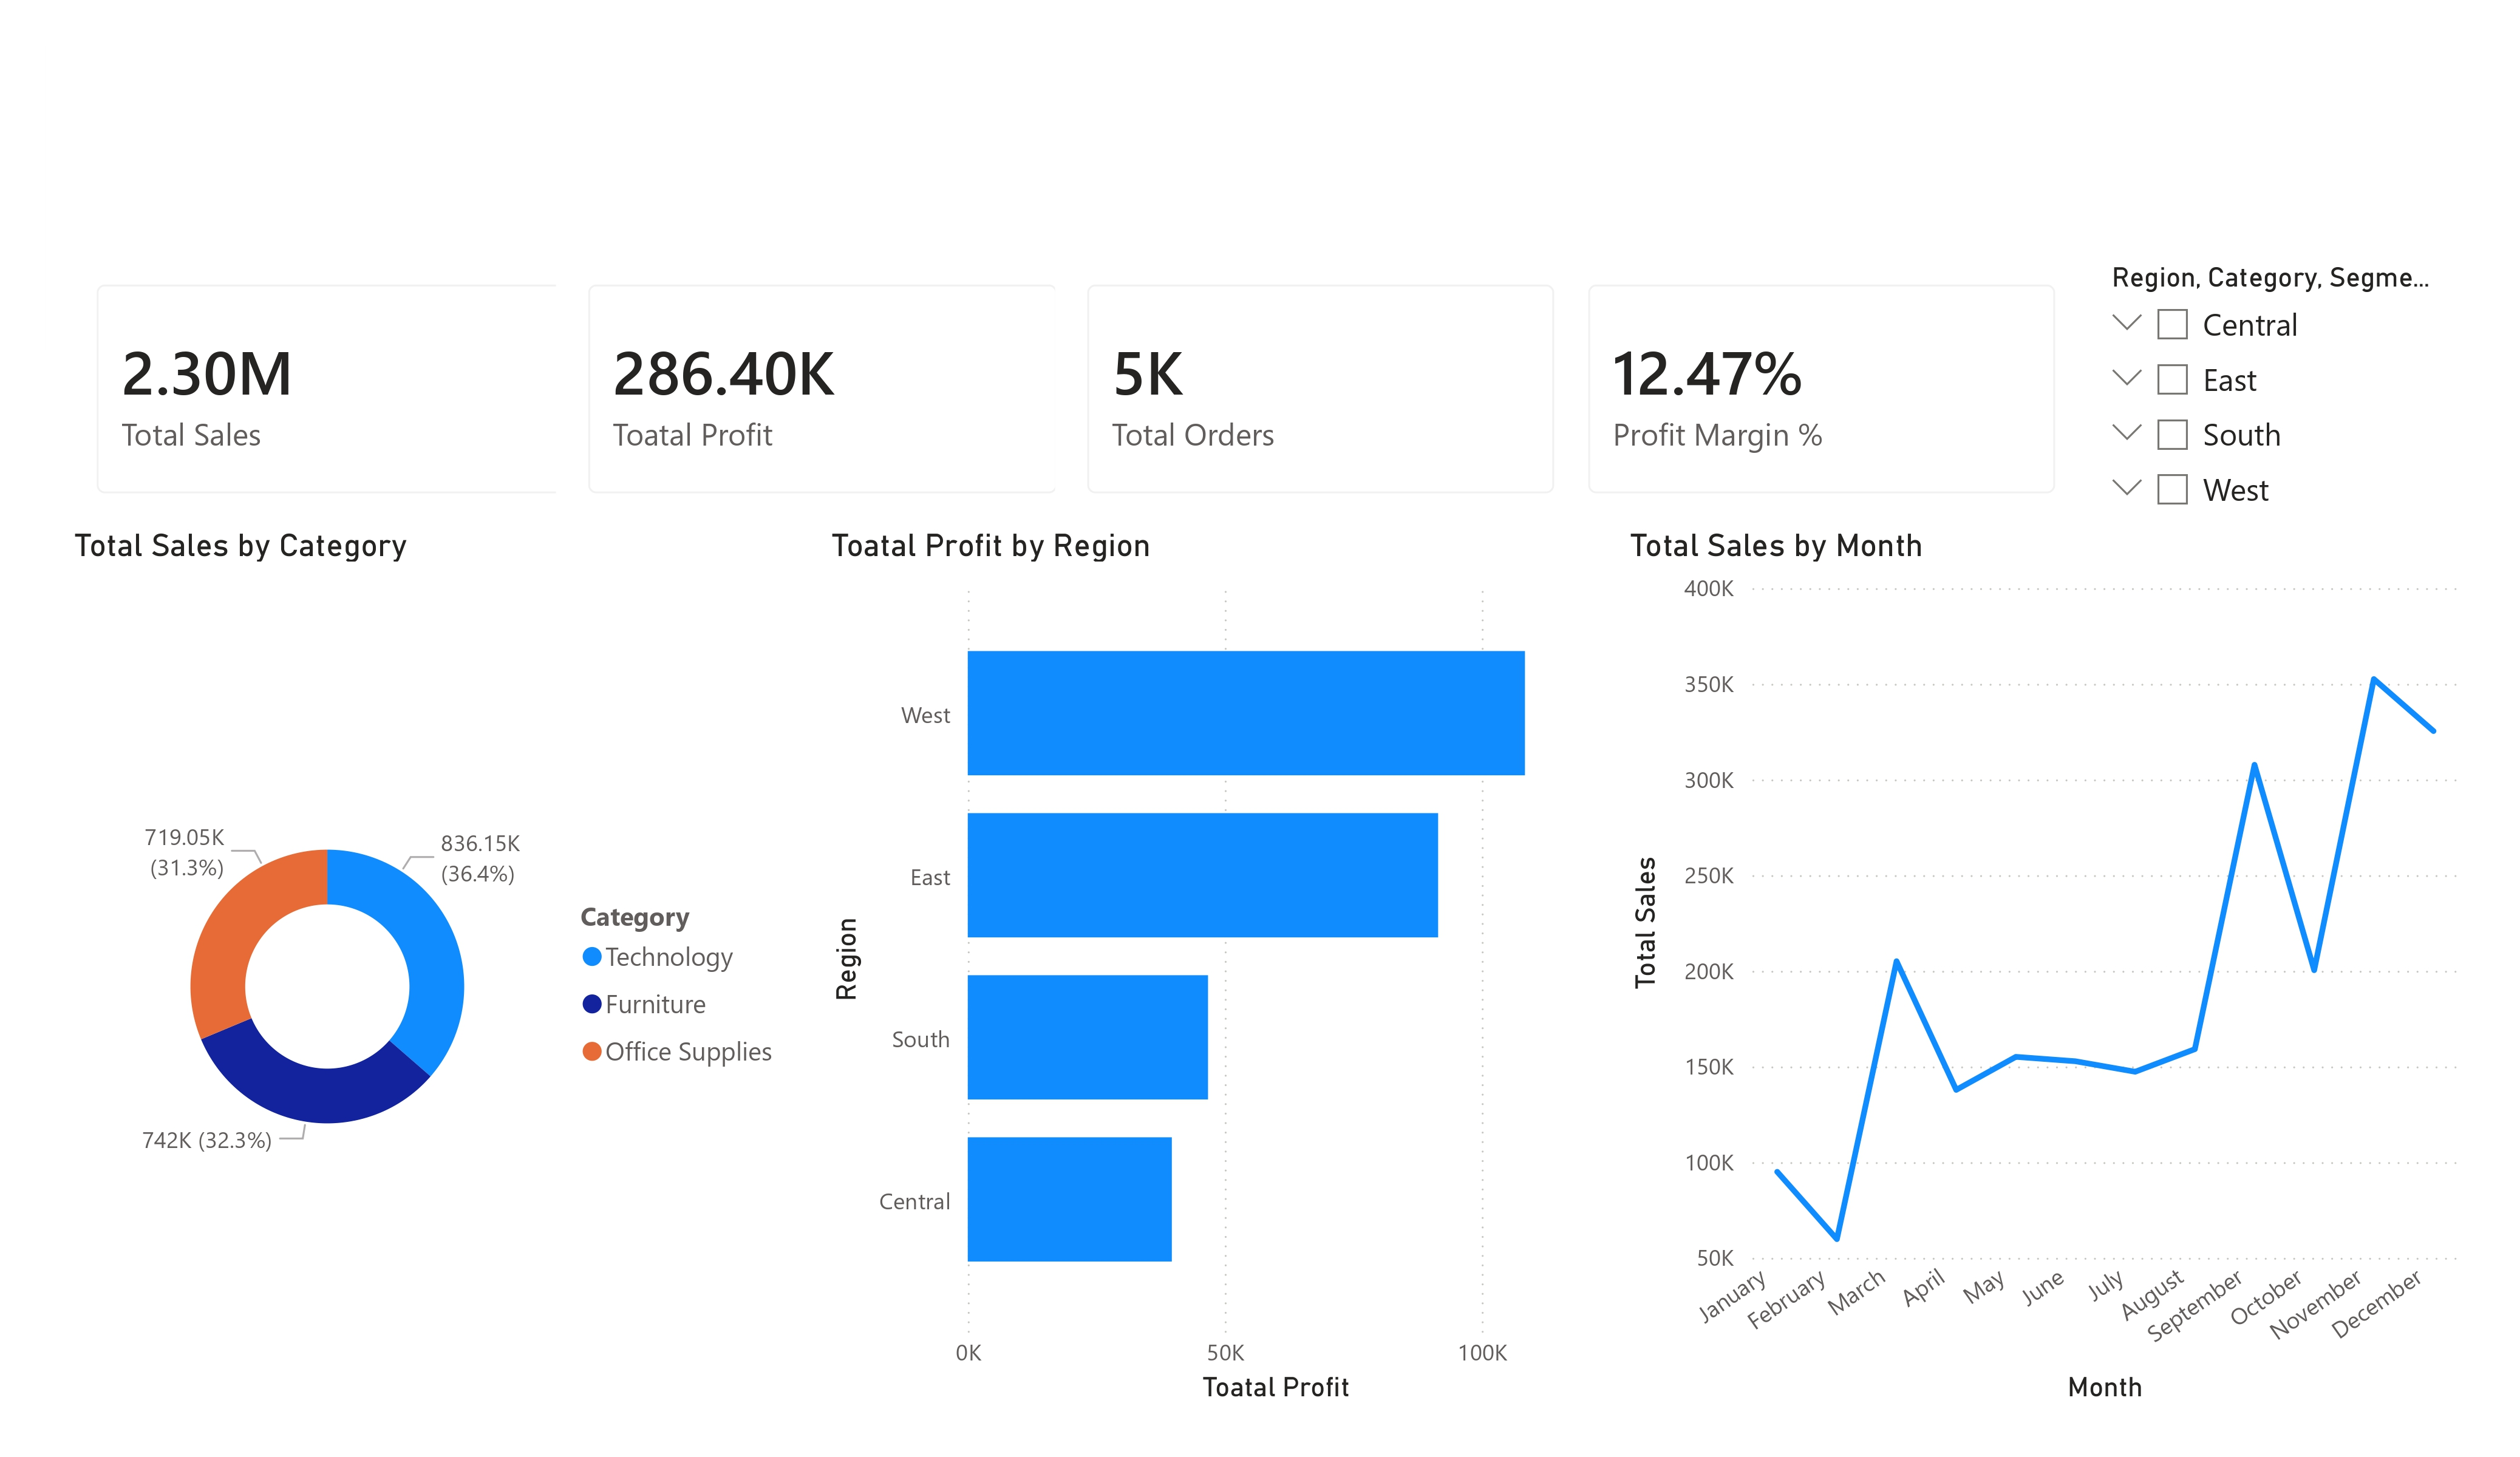

This screenshot's page, from the dashboard's own definition file:
{"tool":"powerbi","page":{"name":"Executive Overview","canvas":[1280,720],"ordinal":0},"visuals":[{"type":"cardVisual","fields":{"Data":["Sample - Superstore.Total Sales"]},"box":[9.7,108.9,280.1,144],"z":0},{"type":"cardVisual","fields":{"Data":["Sample - Superstore.Toatal Profit"]},"box":[269.4,108.9,280.1,144],"z":1000},{"type":"cardVisual","fields":{"Data":["Sample - Superstore.Total Orders"]},"box":[532,108.9,280.1,144],"z":2000},{"type":"cardVisual","fields":{"Data":["Sample - Superstore.Profit Margin %"]},"box":[795.6,108.9,280.1,144],"z":3000},{"type":"lineChart","fields":{"Category":["Sample - Superstore.Order Date.Variation.Date Hierarchy.Month"],"Y":["Sample - Superstore.Total Sales"]},"box":[829.7,252.9,446.4,466.9],"z":4000},{"type":"clusteredBarChart","fields":{"Category":["Sample - Superstore.Region"],"Y":["Sample - Superstore.Toatal Profit"]},"box":[409.5,252.9,420.2,466.9],"z":5000},{"type":"donutChart","fields":{"Y":["Sample - Superstore.Total Sales"],"Category":["Sample - Superstore.Category"]},"box":[9.7,252.9,387.1,466.9],"z":6000},{"type":"slicer","fields":{"Values":["Sample - Superstore.Region","Sample - Superstore.Category","Sample - Superstore.Segment"]},"box":[1075.7,108.9,204.3,144],"z":7000}]}

Visuals, with their boxes on the page's 1280x720 design canvas (x1, y1, x2, y2). These are canvas units, not pixel positions in the 2520x1457 screenshot, which may show the page scaled, cropped or inside an application window:
cardVisual - Sample - Superstore.Total Sales: <box>10,109,290,253</box>
cardVisual - Sample - Superstore.Toatal Profit: <box>269,109,550,253</box>
cardVisual - Sample - Superstore.Total Orders: <box>532,109,812,253</box>
cardVisual - Sample - Superstore.Profit Margin %: <box>796,109,1076,253</box>
lineChart - Sample - Superstore.Order Date.Variation.Date Hierarchy.Month x Sample - Superstore.Total Sales: <box>830,253,1276,720</box>
clusteredBarChart - Sample - Superstore.Region x Sample - Superstore.Toatal Profit: <box>410,253,830,720</box>
donutChart - Sample - Superstore.Total Sales x Sample - Superstore.Category: <box>10,253,397,720</box>
slicer - Sample - Superstore.Region x Sample - Superstore.Category: <box>1076,109,1280,253</box>
